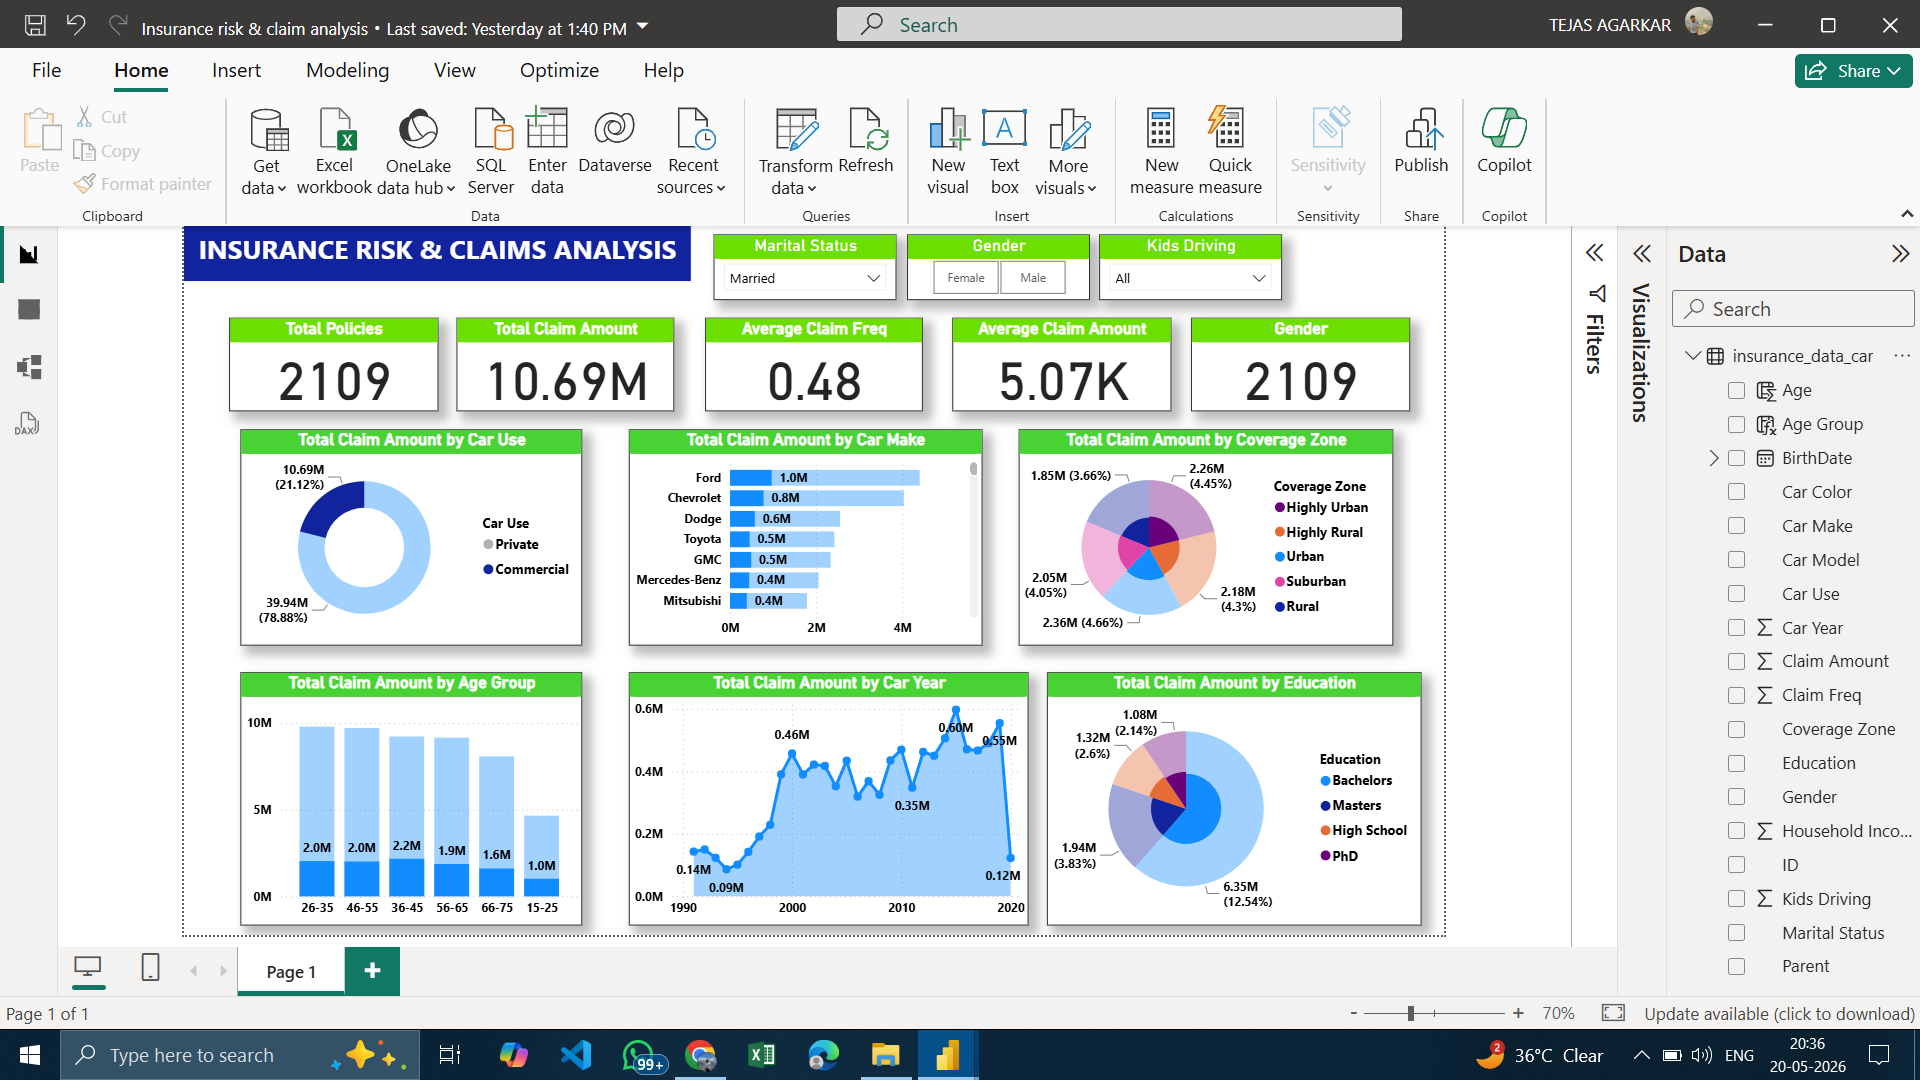

The dashboard page shown, as its layout file describes it:
{"tool":"powerbi","page":{"name":"Page 1","canvas":[1280,720],"ordinal":0},"visuals":[{"type":"textbox","box":[0,0,514.9,55.9],"z":0},{"type":"slicer","title":"Marital Status","fields":{"Values":["insurance_data_car.Marital Status"]},"box":[537.7,9.1,185.7,66.2],"z":1000},{"type":"slicer","title":"Gender","fields":{"Values":["insurance_data_car.Gender"]},"box":[733.8,9.1,185.7,66.2],"z":2000},{"type":"slicer","title":"Kids Driving","fields":{"Values":["insurance_data_car.Kids Driving"]},"box":[929.9,9.1,185.7,66.2],"z":3000},{"type":"card","title":"Total Policies","fields":{"Values":["Count(insurance_data_car.ID)"]},"box":[45.9,93.2,212.3,94.7],"z":4000},{"type":"card","title":"Total Claim Amount","fields":{"Values":["Sum(insurance_data_car.Claim Amount)"]},"box":[276.8,93.2,220.9,94.7],"z":5000},{"type":"card","title":"Average Claim Freq","fields":{"Values":["Avg(insurance_data_car.Claim Freq)"]},"box":[529.3,93.2,220.9,94.7],"z":6000},{"type":"card","title":"Average Claim Amount","fields":{"Values":["Avg(insurance_data_car.Claim Amount)"]},"box":[780.3,93.2,222.3,94.7],"z":7000},{"type":"card","title":"Gender","fields":{"Values":["CountNonNull(insurance_data_car.Gender)"]},"box":[1022.7,93.2,222.3,94.7],"z":8000},{"type":"donutChart","title":"Total Claim Amount by Car Use","fields":{"Category":["insurance_data_car.Car Use"],"Y":["Sum(insurance_data_car.Claim Amount)"]},"box":[57.4,206.6,347.1,219.5],"z":9000},{"type":"clusteredBarChart","title":"Total Claim Amount by Car Make","fields":{"Category":["insurance_data_car.Car Make"],"Y":["Sum(insurance_data_car.Claim Amount)"]},"box":[451.8,206.6,358.6,219.5],"z":10000},{"type":"pieChart","title":"Total Claim Amount by Coverage Zone","fields":{"Y":["Sum(insurance_data_car.Claim Amount)"],"Category":["insurance_data_car.Coverage Zone"]},"box":[847.7,206.6,380.1,219.5],"z":11000},{"type":"columnChart","title":"Total Claim Amount by Age Group","fields":{"Y":["Sum(insurance_data_car.Claim Amount)"],"Category":["insurance_data_car.Age Group"]},"box":[57.4,453.3,347.1,256.8],"z":12000},{"type":"areaChart","title":"Total Claim Amount by Car Year","fields":{"Category":["insurance_data_car.Car Year"],"Y":["Sum(insurance_data_car.Claim Amount)"]},"box":[451.8,453.3,405.9,256.8],"z":12001},{"type":"pieChart","title":"Total Claim Amount by Education","fields":{"Y":["Sum(insurance_data_car.Claim Amount)"],"Category":["insurance_data_car.Education"]},"box":[876.4,453.3,380.1,256.8],"z":12002}]}

Visuals, with their boxes on the page's 1280x720 design canvas (x1, y1, x2, y2). These are canvas units, not pixel positions in the 1920x1080 screenshot, which may show the page scaled, cropped or inside an application window:
textbox: left=0, top=0, right=515, bottom=56
"Marital Status" slicer: left=538, top=9, right=723, bottom=75
"Gender" slicer: left=734, top=9, right=920, bottom=75
"Kids Driving" slicer: left=930, top=9, right=1116, bottom=75
"Total Policies" card: left=46, top=93, right=258, bottom=188
"Total Claim Amount" card: left=277, top=93, right=498, bottom=188
"Average Claim Freq" card: left=529, top=93, right=750, bottom=188
"Average Claim Amount" card: left=780, top=93, right=1003, bottom=188
"Gender" card: left=1023, top=93, right=1245, bottom=188
"Total Claim Amount by Car Use" donutChart: left=57, top=207, right=404, bottom=426
"Total Claim Amount by Car Make" clusteredBarChart: left=452, top=207, right=810, bottom=426
"Total Claim Amount by Coverage Zone" pieChart: left=848, top=207, right=1228, bottom=426
"Total Claim Amount by Age Group" columnChart: left=57, top=453, right=404, bottom=710
"Total Claim Amount by Car Year" areaChart: left=452, top=453, right=858, bottom=710
"Total Claim Amount by Education" pieChart: left=876, top=453, right=1256, bottom=710
